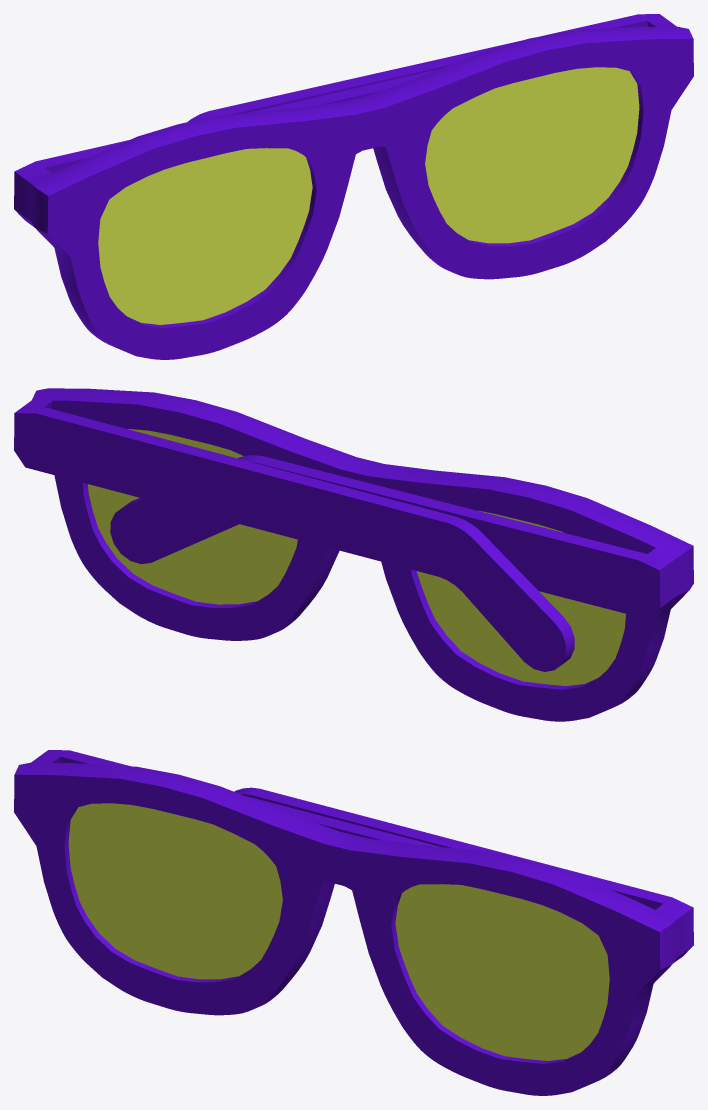
Rendered from Sunglasses.fbx.
The picture shows the model from 3 angles, top to bottom: view 1: azimuth 30°, elevation 25°; view 2: azimuth 150°, elevation 25°; view 3: azimuth 330°, elevation 25°; orthographic projection.
Visible parts, largest first — view 1: Sunglasses; view 2: Sunglasses; view 3: Sunglasses.
Boxes of the visible parts, left/top/right/bottom form: Sunglasses: left=14, top=14, right=693, bottom=359; Sunglasses: left=14, top=388, right=693, bottom=721; Sunglasses: left=14, top=750, right=693, bottom=1095.
Size of the model in its own units: 20 by 6.59 by 2.41.
